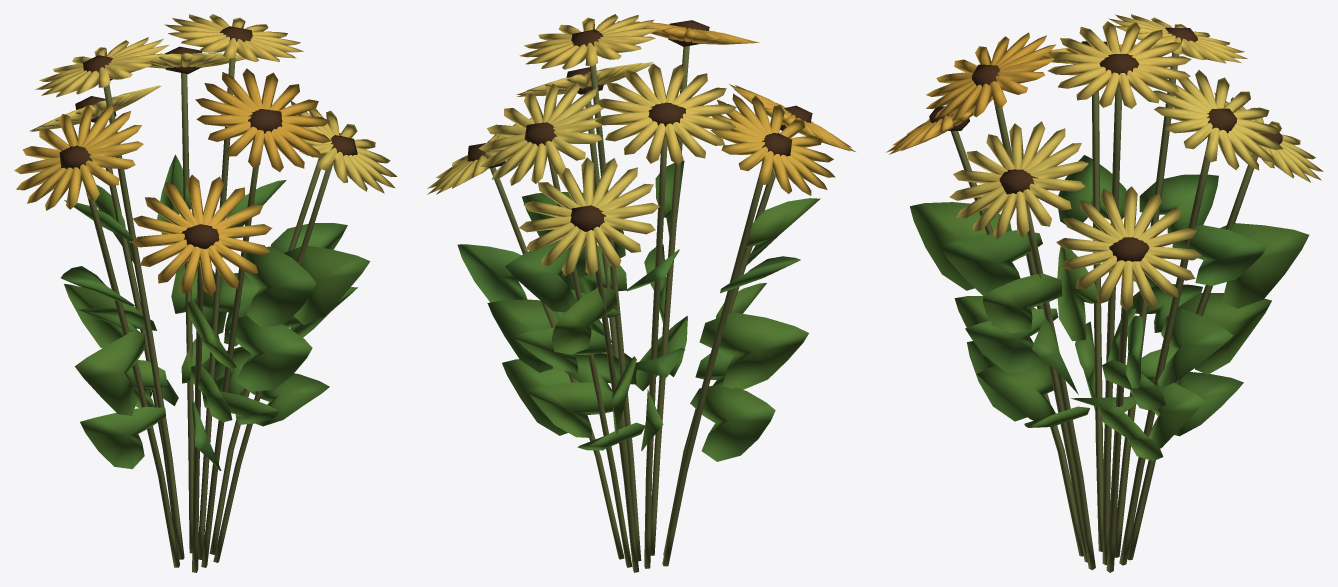
The model's file is bucket_sunflowers.glb.
3 renders of one model, left to right at view 1: azimuth 30°, elevation 25°; view 2: azimuth 150°, elevation 25°; view 3: azimuth 270°, elevation 25°, orthographic. The views are drawn at different scales.
Visible parts, largest first — view 1: Sammel Pflanze, Sammel Putz; view 2: Sammel Pflanze, Sammel Putz; view 3: Sammel Pflanze, Sammel Putz.
Boxes of the visible parts, x1=… form: Sammel Pflanze: x1=14, y1=14, x2=397, y2=470; Sammel Putz: x1=86, y1=58, x2=332, y2=572; Sammel Pflanze: x1=427, y1=14, x2=855, y2=461; Sammel Putz: x1=490, y1=46, x2=775, y2=572; Sammel Pflanze: x1=885, y1=14, x2=1323, y2=461; Sammel Putz: x1=950, y1=52, x2=1258, y2=572.
Bounding box in the file's own units: 0.5079 × 0.6826 × 0.5085.
